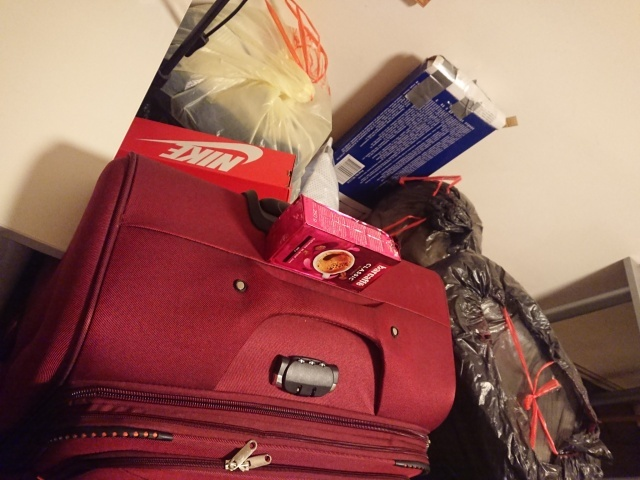Barcaffe Classic Original 225g: (263, 192, 403, 296)
